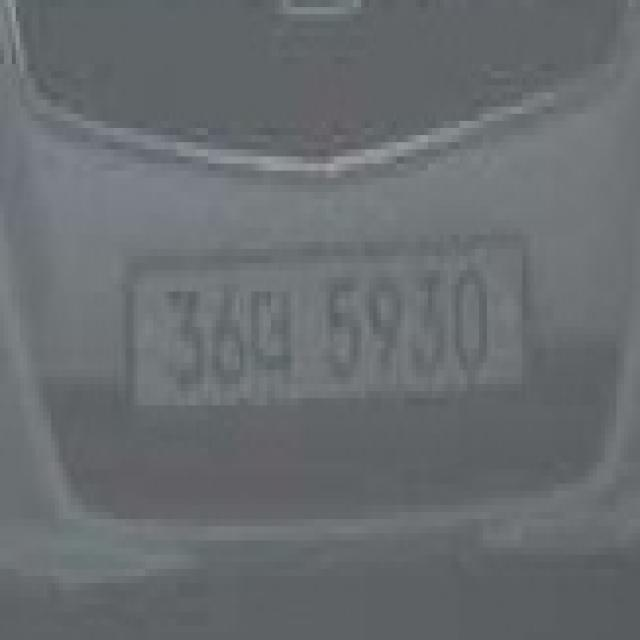0: (451, 263, 491, 377)
3: (165, 277, 204, 398), (408, 270, 448, 384)
5: (322, 263, 361, 384)
6: (212, 277, 247, 391)
9: (365, 270, 405, 384)
deo: (252, 277, 294, 384)
license_plate: (126, 235, 530, 420)
